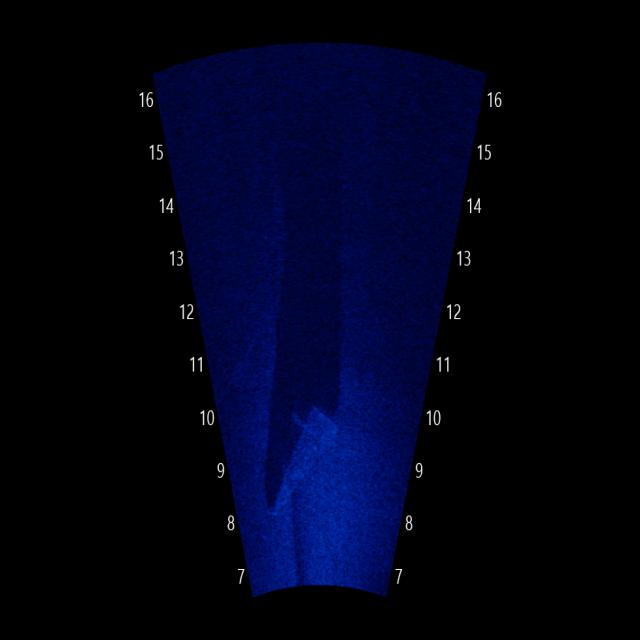triangle: (265, 383, 346, 528)
